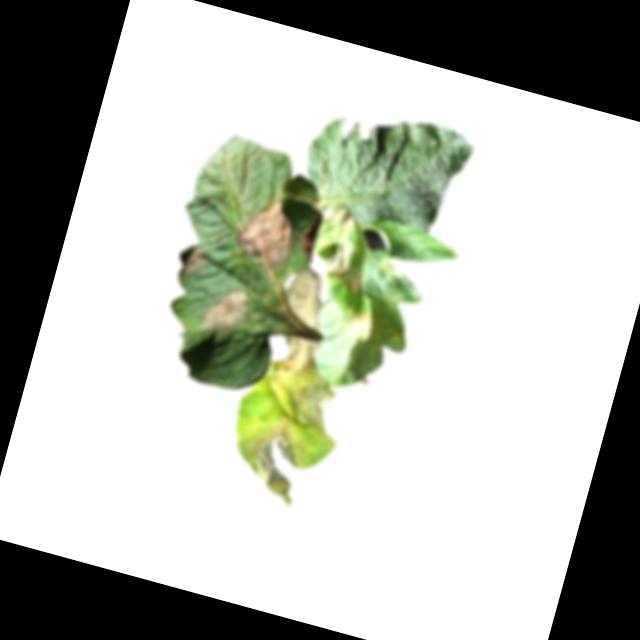Late_blight: (228, 413, 316, 510), (257, 354, 343, 433), (227, 191, 304, 275), (275, 262, 332, 332), (197, 276, 255, 342), (276, 327, 323, 368), (292, 209, 325, 263), (321, 237, 357, 280), (174, 239, 208, 280), (343, 305, 377, 339), (319, 199, 354, 226), (342, 268, 365, 293)
healthy: (293, 91, 477, 245)
